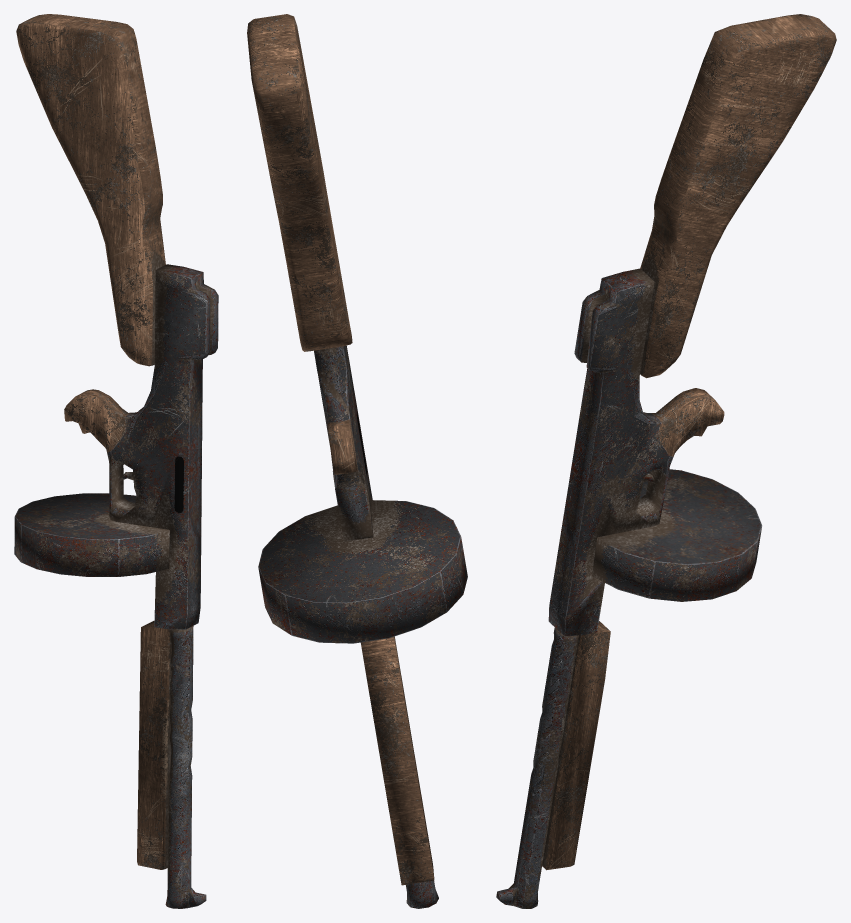
File: Anim_idle_ametralladora_objetos.0018.obj
3 views of the same model, side by side, from view 1: azimuth 30°, elevation 25°; view 2: azimuth 150°, elevation 25°; view 3: azimuth 270°, elevation 25° (orthographic). The views are drawn at different scales.
Visible parts, largest first — view 1: Ametralladora1; view 2: Ametralladora1; view 3: Ametralladora1.
Part boxes in pixels (x1,y1,x2,y2): Ametralladora1: (14,14,218,908); Ametralladora1: (247,14,467,908); Ametralladora1: (496,14,836,908).
Size of the model in its own units: 1.25 by 5.92 by 2.06.
